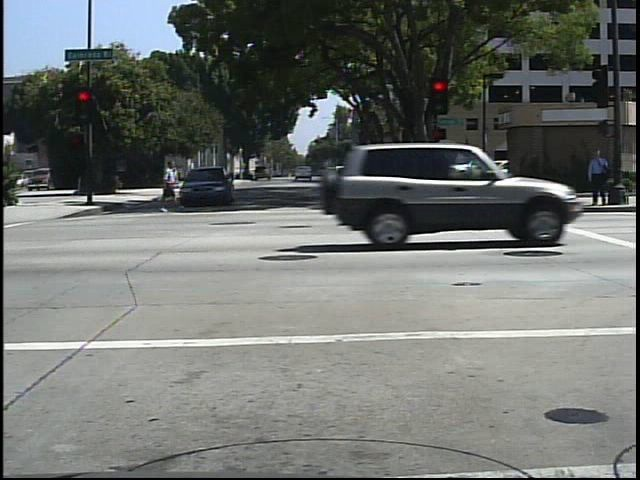person: (152, 155, 183, 213), (586, 143, 615, 201)
